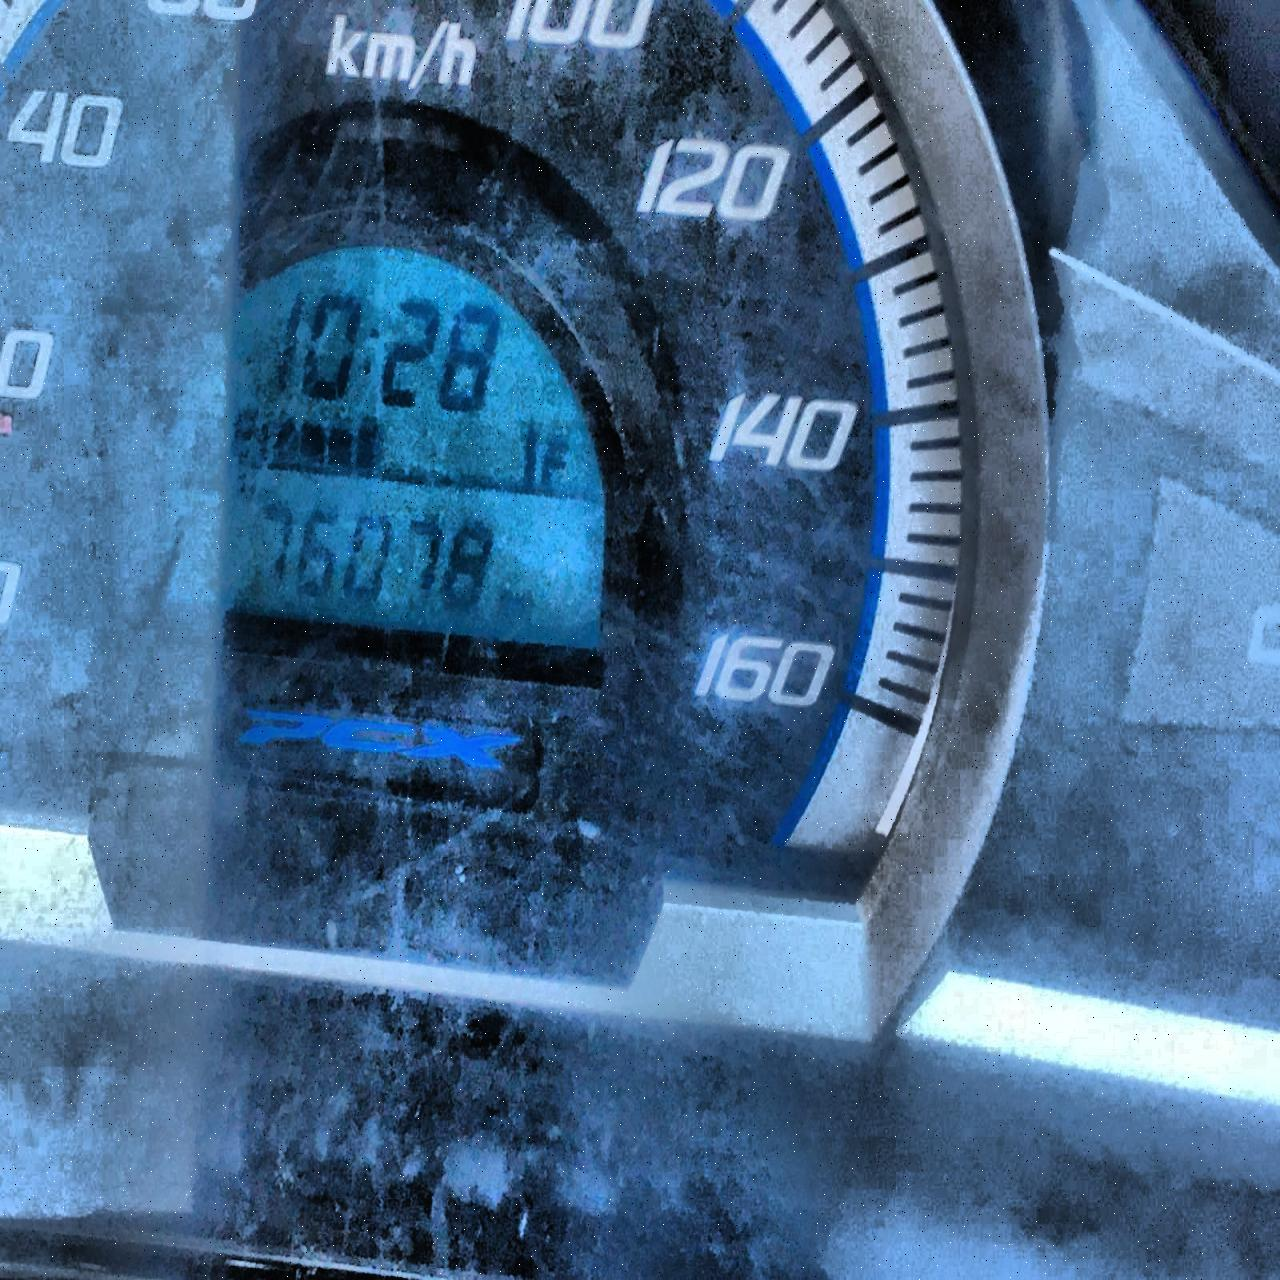0: (308, 286, 360, 402), (342, 512, 392, 612)
1: (271, 286, 306, 393)
2: (381, 290, 441, 411)
6: (299, 504, 341, 605)
7: (404, 509, 442, 611), (253, 497, 293, 587)
8: (440, 301, 501, 414), (442, 509, 492, 618)
X: (229, 402, 260, 463), (361, 311, 383, 393), (542, 434, 571, 485)
odometer: (91, 229, 632, 689)
